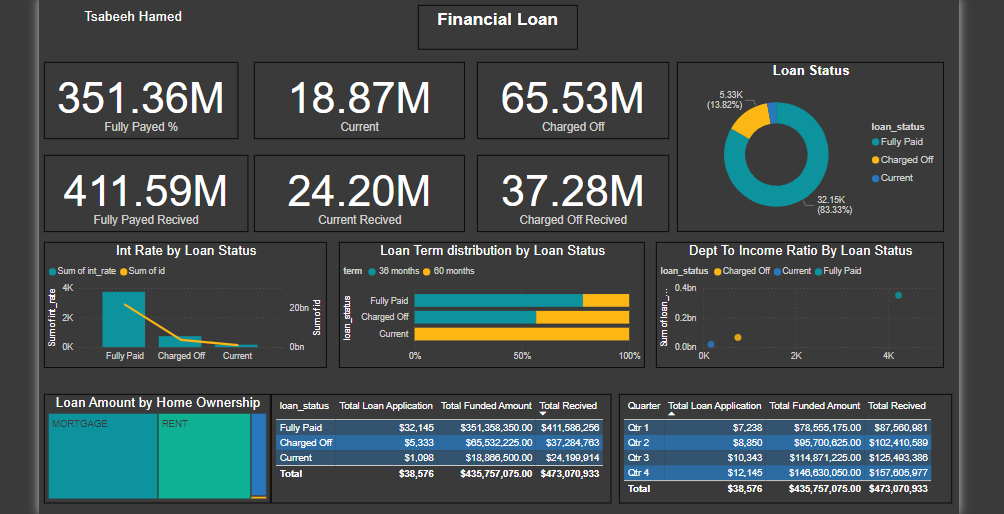

What the dashboard file says about the page in this screenshot:
{"tool":"powerbi","page":{"name":"2","canvas":[1280,720],"ordinal":1},"visuals":[{"type":"tableEx","fields":{"Values":["financial_loan.loan_status","financial_loan.Total Loan Application","financial_loan.Total Funded Amount","financial_loan.Total Recived"]},"box":[322.5,551.8,472.6,151.5],"z":0},{"type":"tableEx","fields":{"Values":["Date table.Date.Variation.Date Hierarchy.Quarter","financial_loan.Total Loan Application","financial_loan.Total Funded Amount","financial_loan.Total Recived"]},"box":[806.2,551.8,462.9,151.5],"z":1000},{"type":"donutChart","title":"Loan Status","fields":{"Category":["financial_loan.loan_status"],"Y":["financial_loan.loan_status"]},"box":[886.8,90.3,371.1,236.3],"z":2000},{"type":"card","fields":{"Values":["financial_loan.Fully Payed Recived"]},"box":[6.9,219.6,283.6,107],"z":3000},{"type":"card","fields":{"Values":["financial_loan.Fully Payed %"]},"box":[6.9,90.3,269.7,107],"z":4000},{"type":"card","fields":{"Values":["financial_loan.Current"]},"box":[298.8,90.3,293.3,107],"z":5000},{"type":"card","fields":{"Values":["financial_loan.Current Recived"]},"box":[298.8,219.6,293.3,107],"z":6000},{"type":"card","fields":{"Values":["financial_loan.Changed Off Recived"]},"box":[608.8,219.6,266.9,107],"z":7000},{"type":"card","fields":{"Values":["financial_loan.Charged Off"]},"box":[608.8,90.3,266.9,107],"z":8000},{"type":"scatterChart","title":"Dept To Income Ratio By Loan Status","fields":{"X":["financial_loan.dti"],"Y":["financial_loan.loan_amount"],"Series":["financial_loan.loan_status"]},"box":[857.6,340.5,400.3,175.1],"z":9000},{"type":"lineClusteredColumnComboChart","title":"Int Rate by Loan Status","fields":{"Y":["financial_loan.int_rate"],"Category":["financial_loan.loan_status"],"Y2":["financial_loan.id"]},"box":[6.9,340.5,393.4,175.1],"z":10000},{"type":"hundredPercentStackedBarChart","title":"Loan Term distribution  by Loan Status","fields":{"Category":["financial_loan.loan_status"],"Y":["financial_loan.id"],"Series":["financial_loan.term"]},"box":[417,340.5,425.3,175.1],"z":11000},{"type":"treemap","title":"Loan Amount by Home Ownership","fields":{"Details":["financial_loan.home_ownership"],"Values":["financial_loan.loan_amount"]},"box":[7,552,315,152],"z":12000},{"type":"textbox","box":[526.6,11.3,221.6,62.1],"z":13000},{"type":"textbox","box":[31.1,11.3,200.5,57.9],"z":14000}]}

Visuals, with their boxes on the page's 1280x720 design canvas (x1, y1, x2, y2). These are canvas units, not pixel positions in the 1004x514 screenshot, which may show the page scaled, cropped or inside an application window:
tableEx - financial_loan.loan_status x financial_loan.Total Loan Application: bbox(322, 552, 795, 703)
tableEx - Date table.Date.Variation.Date Hierarchy.Quarter x financial_loan.Total Loan Application: bbox(806, 552, 1269, 703)
"Loan Status" donutChart: bbox(887, 90, 1258, 327)
card - financial_loan.Fully Payed Recived: bbox(7, 220, 290, 327)
card - financial_loan.Fully Payed %: bbox(7, 90, 277, 197)
card - financial_loan.Current: bbox(299, 90, 592, 197)
card - financial_loan.Current Recived: bbox(299, 220, 592, 327)
card - financial_loan.Changed Off Recived: bbox(609, 220, 876, 327)
card - financial_loan.Charged Off: bbox(609, 90, 876, 197)
"Dept To Income Ratio By Loan Status" scatterChart: bbox(858, 340, 1258, 516)
"Int Rate by Loan Status" lineClusteredColumnComboChart: bbox(7, 340, 400, 516)
"Loan Term distribution  by Loan Status" hundredPercentStackedBarChart: bbox(417, 340, 842, 516)
"Loan Amount by Home Ownership" treemap: bbox(7, 552, 322, 704)
textbox: bbox(527, 11, 748, 73)
textbox: bbox(31, 11, 232, 69)
